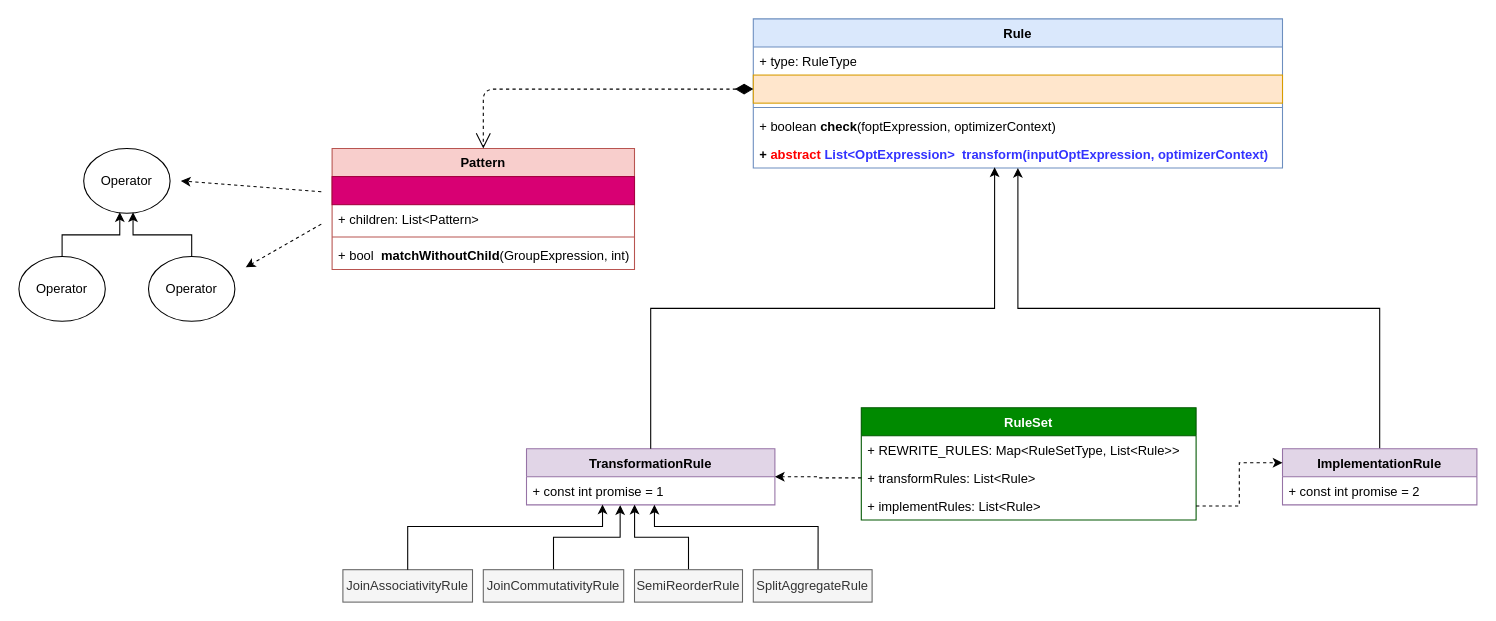
This 1496x621 diagram has some shape labels left out. The shapes that lost their labels are listed below. From the top down, each one's centre as x and y in pixels, then its label:
At point 1017,88: "+ pattern : Pattern".
At point 482,190: "+ opType : OperatorType".
